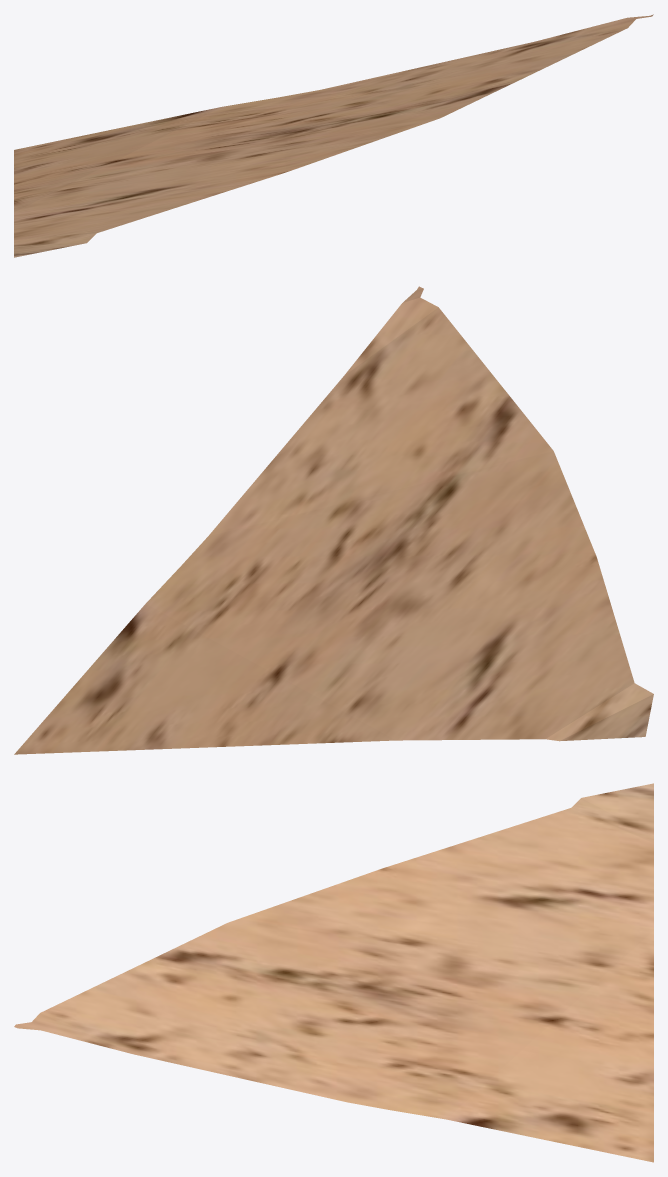
The picture shows the model from 3 angles, top to bottom: view 1: azimuth 90°, elevation 25°; view 2: azimuth 150°, elevation 25°; view 3: azimuth 270°, elevation 25°; orthographic projection. The views are drawn at different scales.
Size of the model in its own units: 0.4483 by 0.1165 by 0.498.
1 material, 1 textured.
